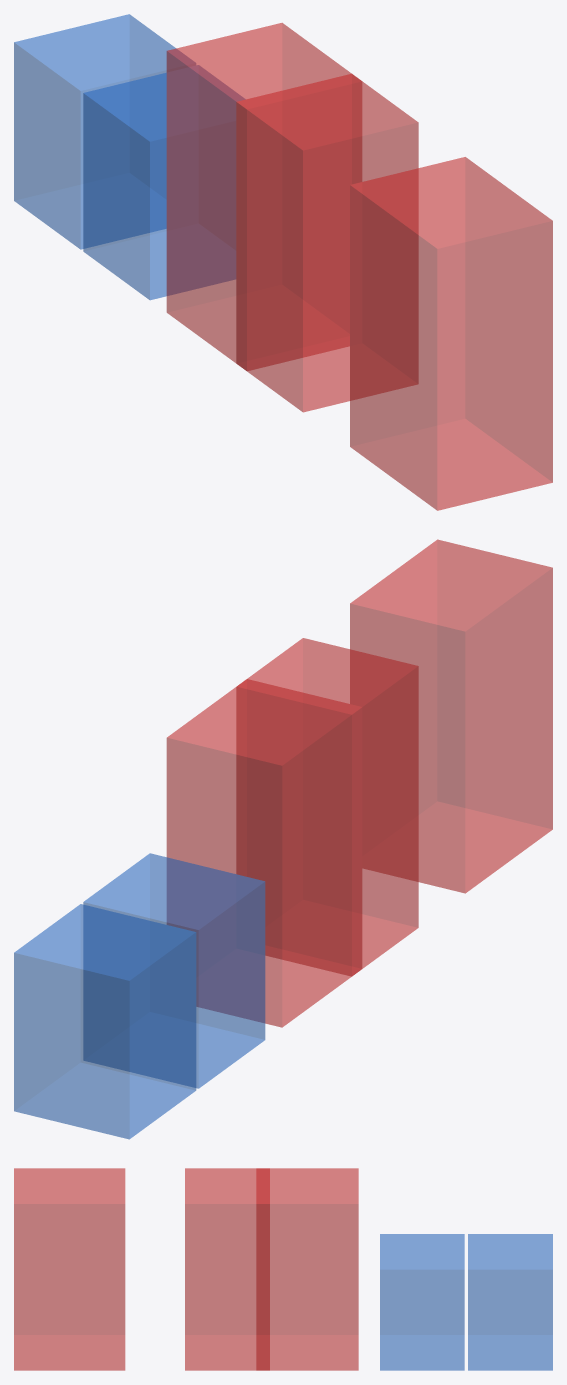
File: home_01_zones.obj
The picture shows the model from 3 angles, top to bottom: view 1: azimuth 30°, elevation 25°; view 2: azimuth 150°, elevation 25°; view 3: azimuth 270°, elevation 25°; orthographic projection. The views are drawn at different scales.
Parts seen in each view (by area): view 1: meter_panel_working_space, inverter_vlld_wall_space, base_hub_wall_space, base_core_2_footprint, base_core_1_footprint; view 2: meter_panel_working_space, inverter_vlld_wall_space, base_hub_wall_space, base_core_2_footprint, base_core_1_footprint; view 3: meter_panel_working_space, inverter_vlld_wall_space, base_hub_wall_space, base_core_1_footprint, base_core_2_footprint.
Boxes of the visible parts, <box> form: meter_panel_working_space: <box>350,157,552,510</box>; inverter_vlld_wall_space: <box>166,23,361,370</box>; base_hub_wall_space: <box>236,73,418,412</box>; base_core_2_footprint: <box>14,14,195,249</box>; base_core_1_footprint: <box>83,65,244,300</box>; meter_panel_working_space: <box>350,539,552,893</box>; inverter_vlld_wall_space: <box>166,679,362,1027</box>; base_hub_wall_space: <box>236,638,418,976</box>; base_core_2_footprint: <box>14,904,196,1139</box>; base_core_1_footprint: <box>83,853,265,1088</box>; meter_panel_working_space: <box>14,1168,125,1370</box>; inverter_vlld_wall_space: <box>256,1168,358,1370</box>; base_hub_wall_space: <box>185,1168,269,1370</box>; base_core_1_footprint: <box>380,1234,464,1370</box>; base_core_2_footprint: <box>468,1234,552,1370</box>.
Size of the model in its own units: 0.9144 by 1.98 by 5.81.
